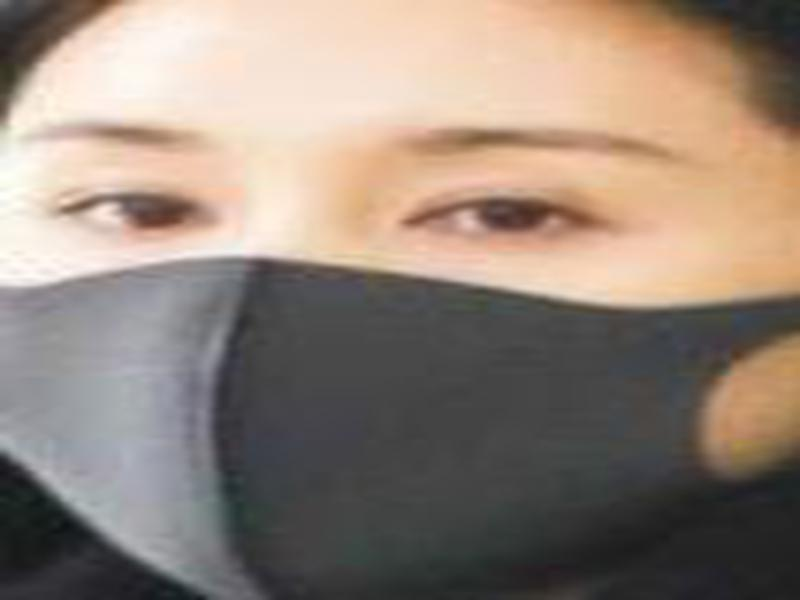with_mask: (1, 3, 798, 600)
